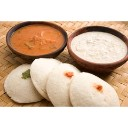idly: (70, 66, 123, 107), (5, 63, 42, 105), (31, 56, 60, 105), (47, 58, 74, 106)
